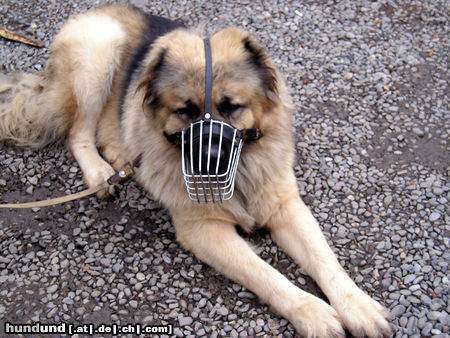cau_ovcharka: (0, 4, 394, 338)
